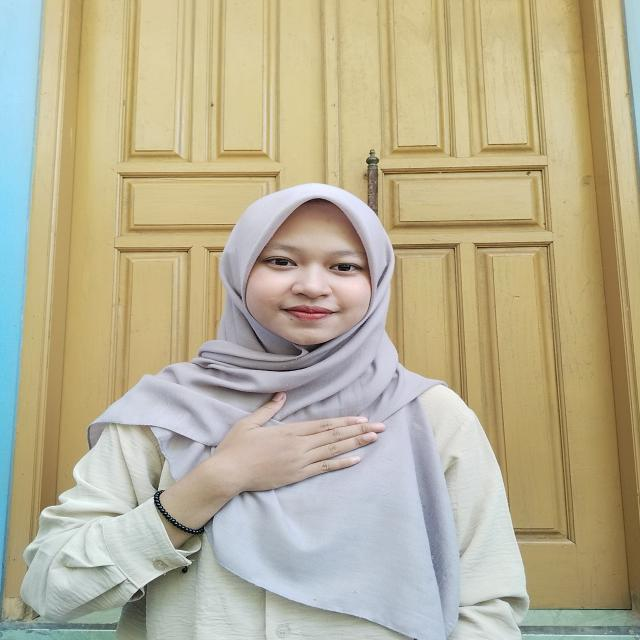tolong: (164, 392, 393, 526)
